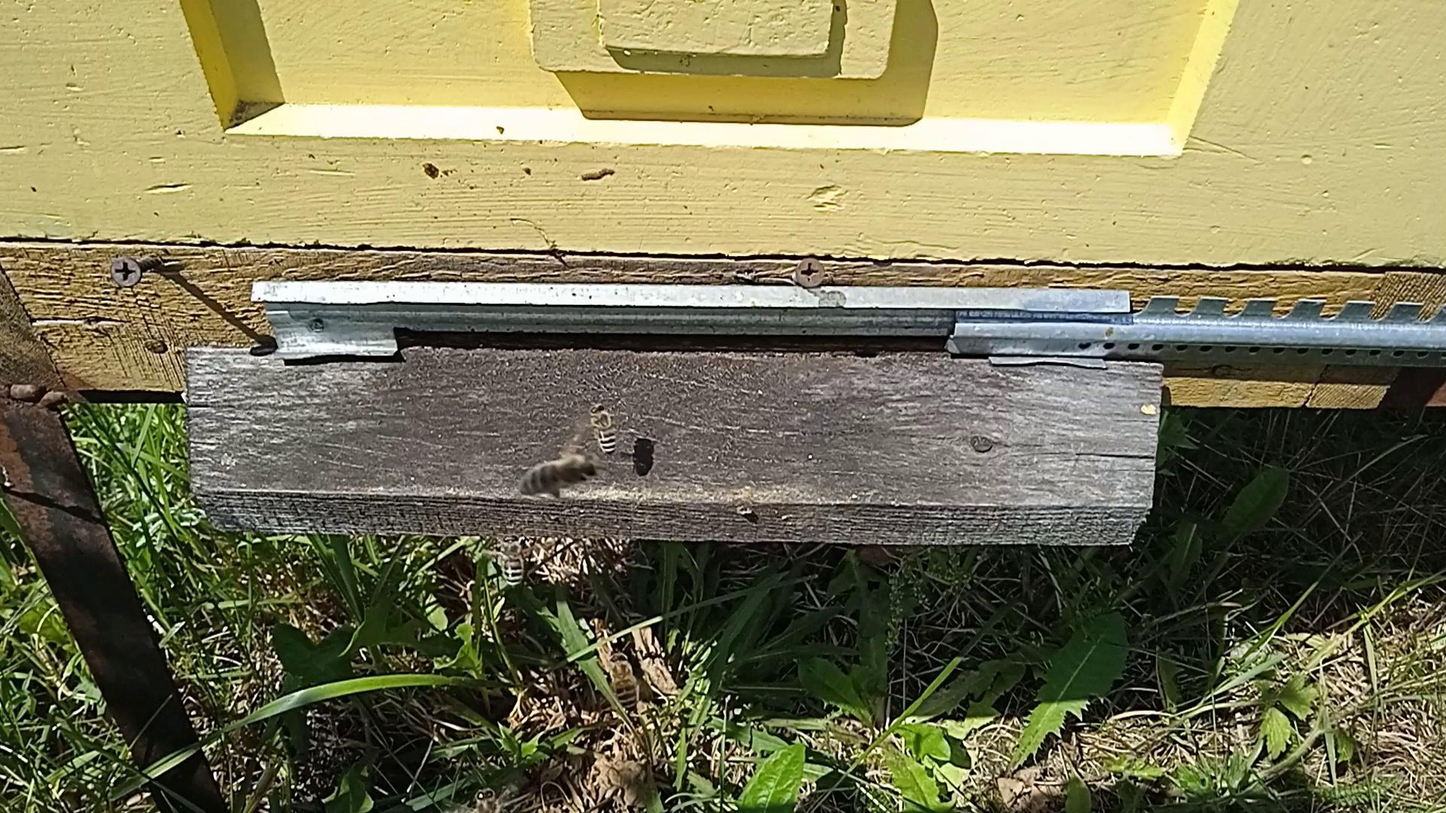worker-bee: (518, 451, 602, 497), (606, 651, 639, 713), (498, 533, 527, 589), (589, 401, 618, 455), (473, 787, 504, 813)
